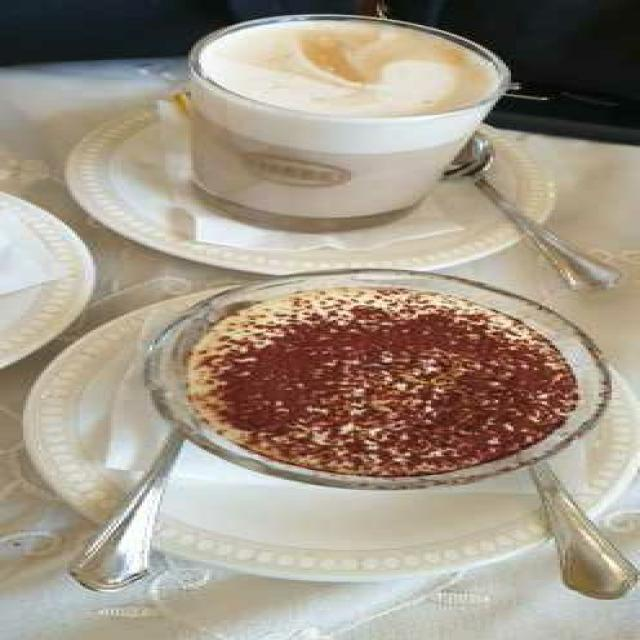Cup: (181, 12, 516, 222)
Plate: (20, 276, 638, 582), (62, 99, 557, 276), (0, 189, 95, 370)
